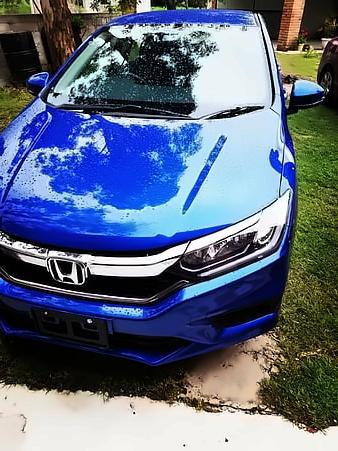Car hood: (0, 99, 304, 254)
Fender - -F-L-: (270, 85, 317, 246)
Front bumper: (0, 258, 294, 368)
Headlight - -L-: (174, 181, 298, 281)
Side mirror - -L-: (281, 73, 333, 119)
Side mirror - -R-: (23, 64, 61, 101)
